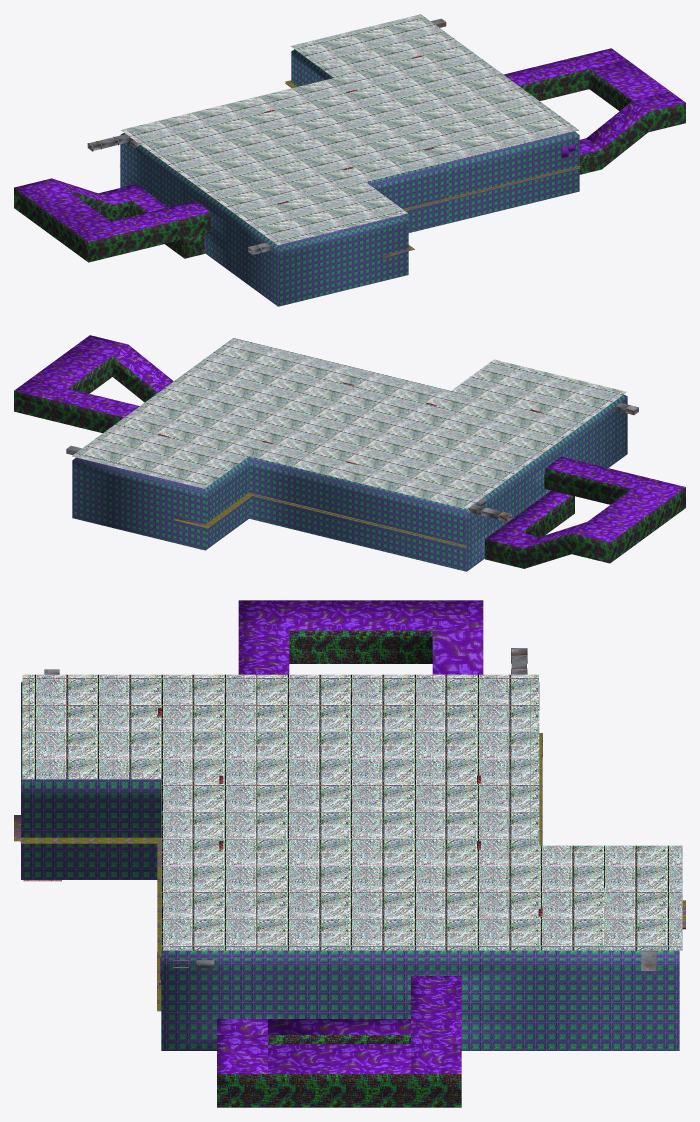
File: arena_final.fbx
The picture shows the model from 3 angles, top to bottom: view 1: azimuth 30°, elevation 25°; view 2: azimuth 150°, elevation 25°; view 3: azimuth 270°, elevation 25°; orthographic projection. The views are drawn at different scales.
Visible parts, largest first — view 1: Object052.001, Plane006, Plane006.002, Plane006.001, Object049; view 2: Object052.001, Plane006, Plane006.002, Plane006.001, Object049, Box014.010; view 3: Object052.001, Plane006, Plane006.001, Plane006.002, Object049.
Boxes of the visible parts, x1,y1,x2,y2 form: Object052.001: [121, 14, 578, 244]; Plane006: [120, 48, 579, 306]; Plane006.002: [14, 178, 210, 262]; Plane006.001: [503, 48, 685, 174]; Object049: [119, 80, 580, 258]; Object052.001: [72, 338, 626, 509]; Plane006: [72, 393, 627, 571]; Plane006.002: [485, 456, 685, 568]; Plane006.001: [14, 335, 173, 433]; Object049: [174, 492, 466, 547]; Box014.010: [468, 504, 512, 522]; Object052.001: [22, 674, 682, 950]; Plane006: [21, 678, 679, 1050]; Plane006.001: [217, 976, 461, 1107]; Plane006.002: [238, 600, 483, 674]; Object049: [14, 733, 685, 1011].
Size of the model in its own units: 11895 by 1193 by 7131.
15 materials, 14 textured.
